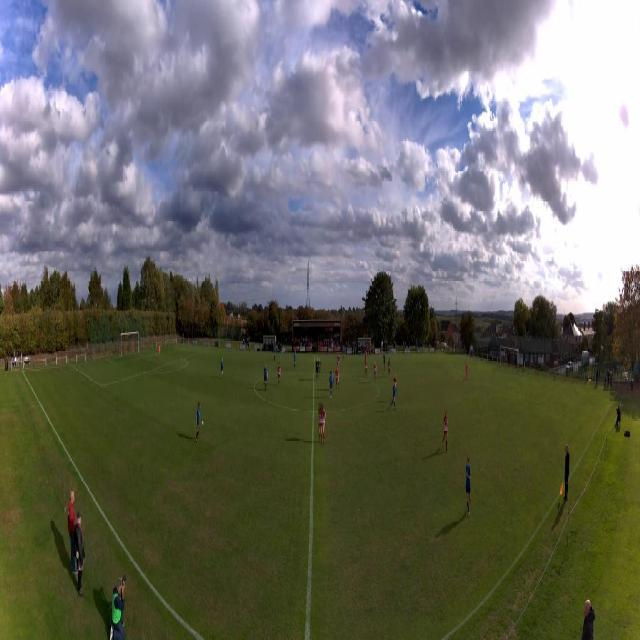ball: (202, 421, 204, 427)
player: (465, 455, 472, 519), (318, 403, 327, 444), (195, 400, 201, 444), (390, 382, 399, 411), (442, 410, 448, 452), (328, 371, 334, 400), (335, 365, 340, 389), (264, 365, 268, 392), (277, 362, 281, 387), (315, 357, 319, 382), (220, 358, 224, 380), (373, 362, 377, 382), (387, 357, 391, 377), (293, 350, 297, 370), (317, 359, 321, 379), (364, 359, 368, 377), (393, 372, 397, 389), (337, 354, 341, 369), (465, 360, 468, 380), (383, 353, 386, 371), (273, 344, 276, 361), (158, 343, 160, 358), (343, 345, 345, 360), (365, 349, 367, 361)
